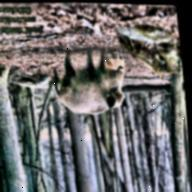boar: (49, 65, 146, 131)
